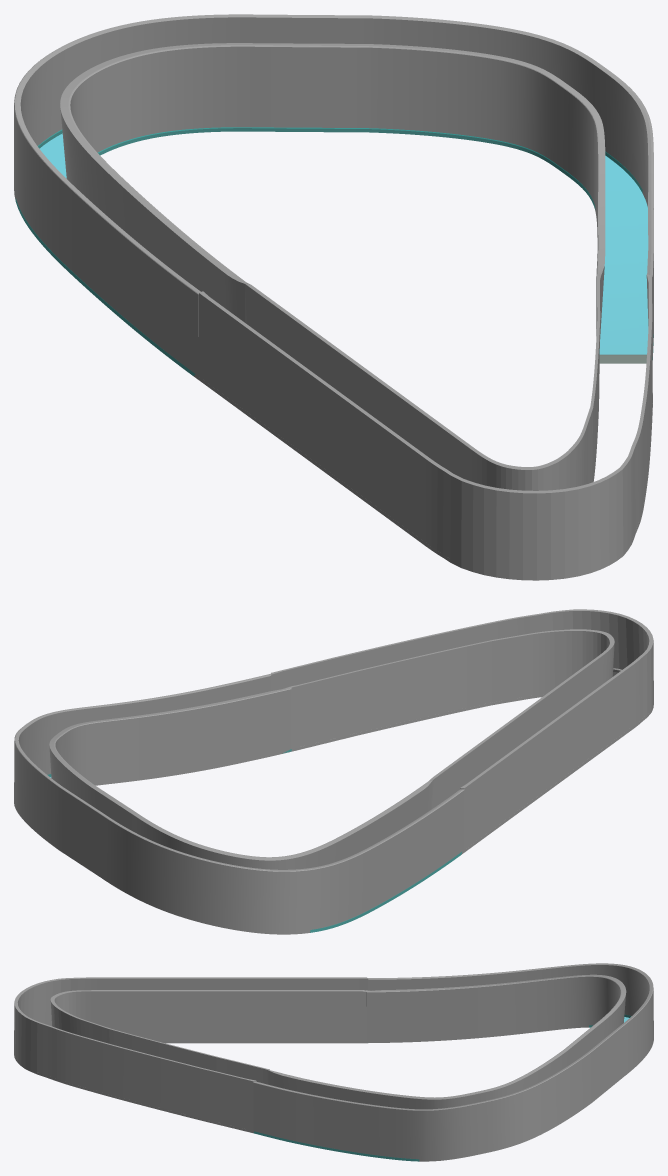
File: Full_Track_V2.4.fbx
The picture shows the model from 3 angles, top to bottom: view 1: azimuth 30°, elevation 25°; view 2: azimuth 150°, elevation 25°; view 3: azimuth 270°, elevation 25°; orthographic projection. The views are drawn at different scales.
Visible parts, largest first — view 1: Light_Road_InvisiBarrier, InvisiBarrier, Light_Road1, Light_Road_Barrier, Barrier; view 2: Light_Road_InvisiBarrier, InvisiBarrier, Barrier, Light_Road_Barrier; view 3: Light_Road_InvisiBarrier, InvisiBarrier, Barrier, Light_Road_Barrier.
Boxes of the visible parts, bbox=[...] form: Light_Road_InvisiBarrier: bbox=[14, 14, 653, 379]; InvisiBarrier: bbox=[198, 274, 652, 580]; Light_Road1: bbox=[40, 133, 648, 354]; Light_Road_Barrier: bbox=[15, 127, 653, 375]; Barrier: bbox=[198, 376, 652, 562]; Light_Road_InvisiBarrier: bbox=[14, 673, 464, 934]; InvisiBarrier: bbox=[271, 609, 653, 849]; Barrier: bbox=[291, 668, 648, 851]; Light_Road_Barrier: bbox=[48, 749, 461, 932]; Light_Road_InvisiBarrier: bbox=[253, 963, 653, 1161]; InvisiBarrier: bbox=[14, 977, 368, 1130]; Barrier: bbox=[33, 1041, 366, 1132]; Light_Road_Barrier: bbox=[254, 1014, 631, 1161].
Bounding box in the file's own units: 93587 × 24954 × 171763.
